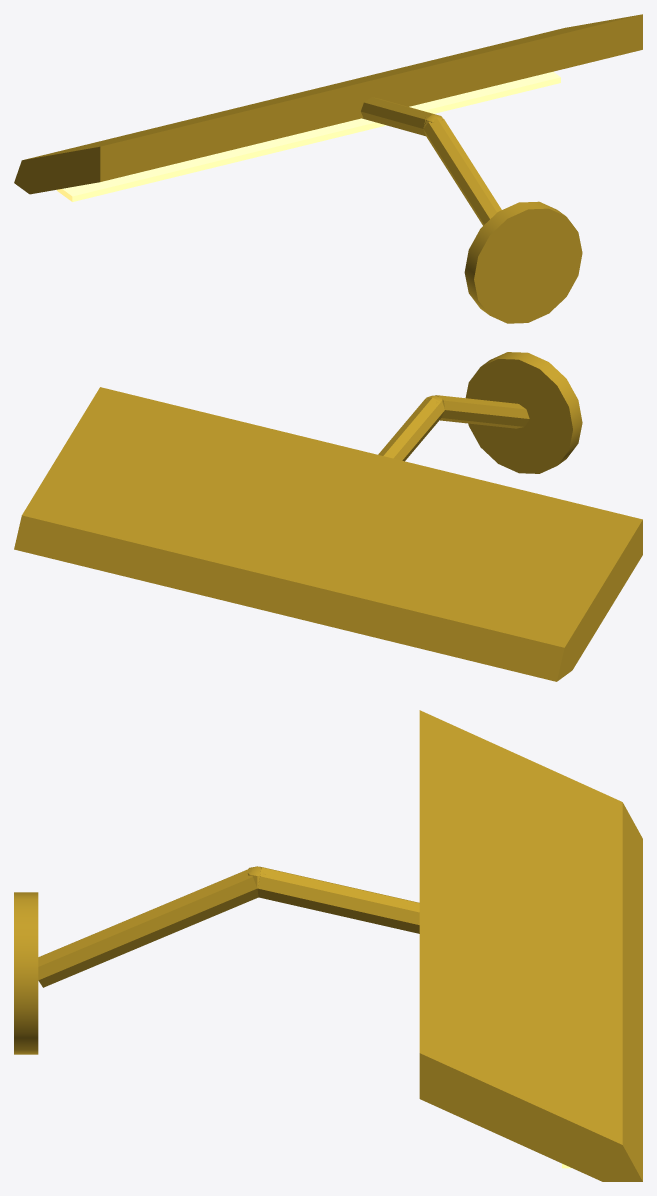
File: prop_picture_light.glb
3 views of the same model, one above another, from view 1: azimuth 30°, elevation 25°; view 2: azimuth 150°, elevation 25°; view 3: azimuth 270°, elevation 25° (orthographic). The views are drawn at different scales.
Parts seen in each view (by area): view 1: PictureLight; view 2: PictureLight; view 3: PictureLight.
Part boxes in pixels (x1=…): PictureLight: x1=14, y1=14, x2=642, y2=323; PictureLight: x1=14, y1=352, x2=642, y2=681; PictureLight: x1=14, y1=710, x2=642, y2=1181.
Size of the model in its own units: 0.4 by 0.098 by 0.31.
